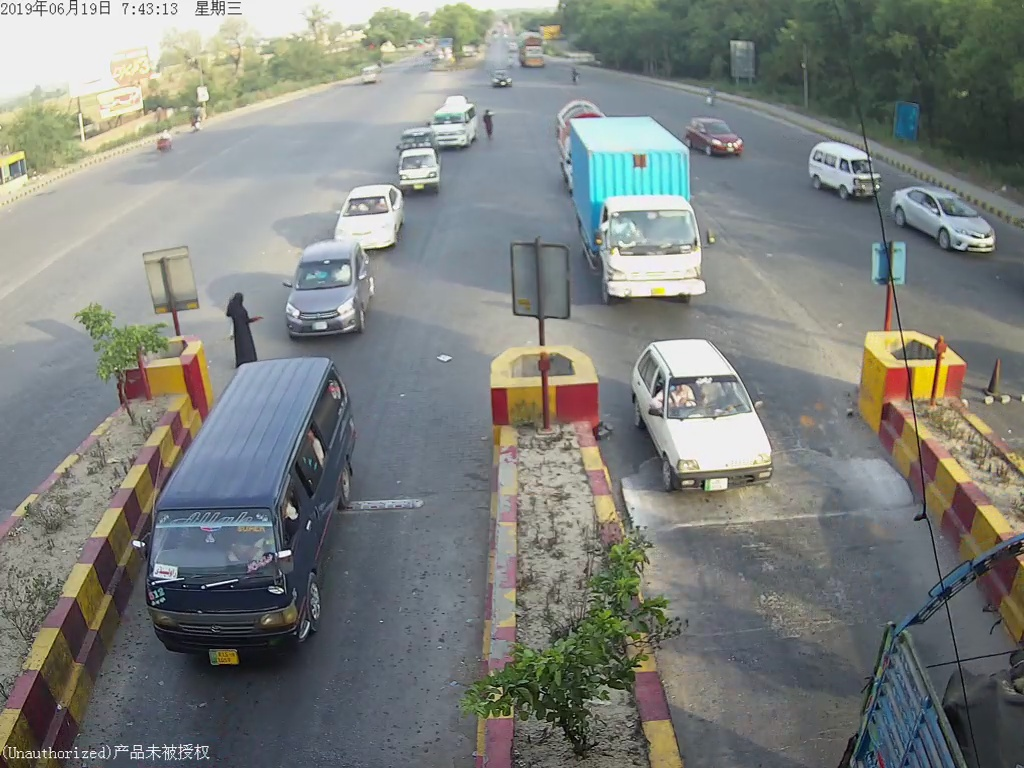Cat-1: (634, 346, 797, 492), (278, 244, 380, 336)
Cat-2: (133, 361, 358, 664), (572, 127, 719, 312)
